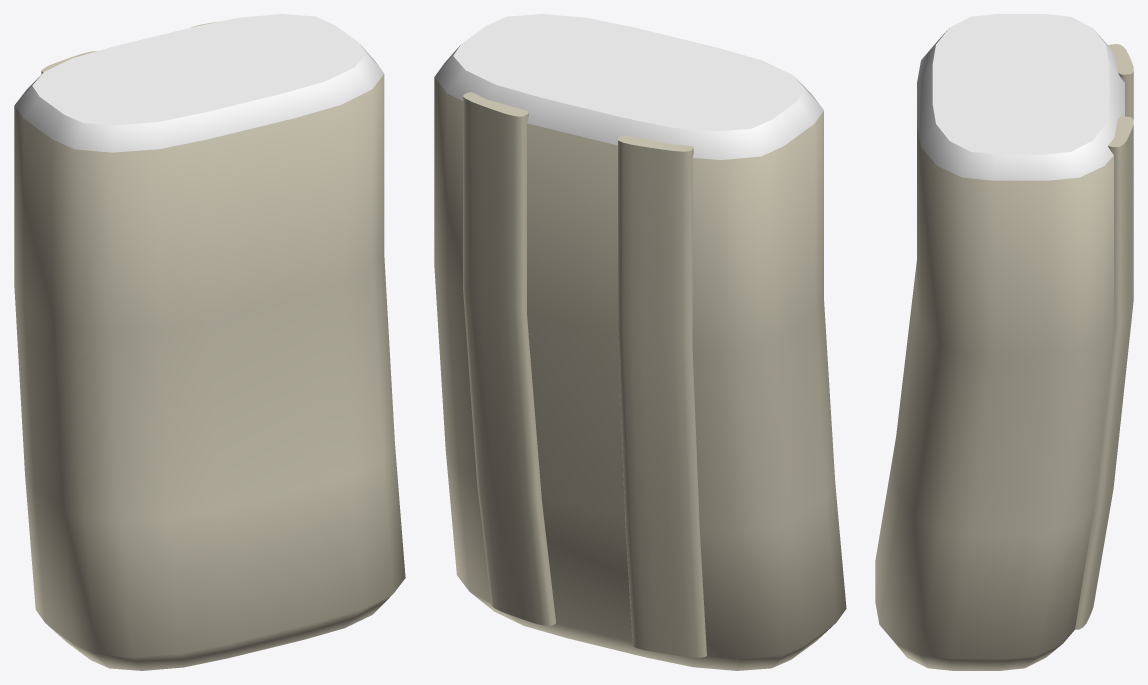
File: chuteBase.fbx
The picture shows the model from 3 angles, left to right: view 1: azimuth 30°, elevation 25°; view 2: azimuth 150°, elevation 25°; view 3: azimuth 270°, elevation 25°; orthographic projection. The views are drawn at different scales.
Parts seen in each view (by area): view 1: Military parachute_mesh.001; view 2: Military parachute_mesh.001; view 3: Military parachute_mesh.001.
Boxes of the visible parts, <box> form: Military parachute_mesh.001: <box>14,14,405,670</box>; Military parachute_mesh.001: <box>434,14,846,670</box>; Military parachute_mesh.001: <box>875,14,1133,670</box>.
Bounding box in the file's own units: 35 × 55.01 × 24.84.
